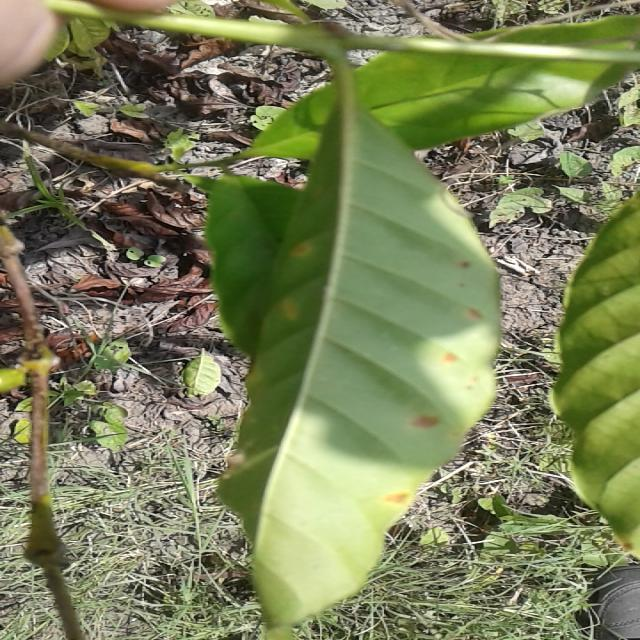Enfermedad-Roya: (204, 111, 500, 637)
